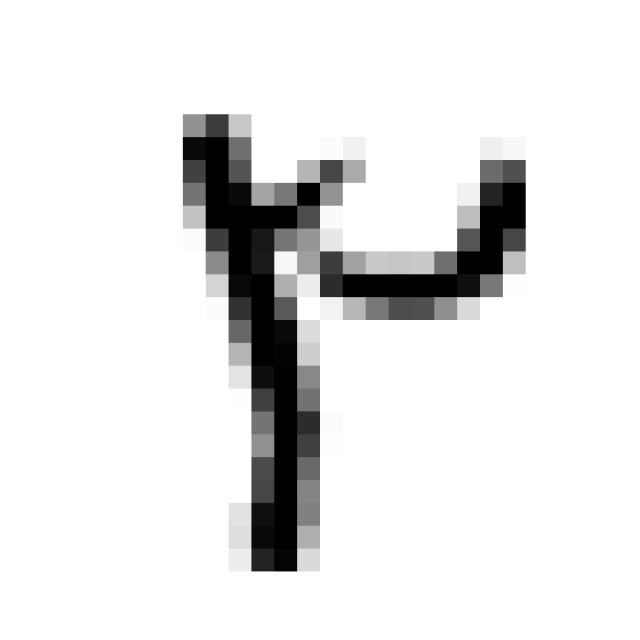3 -three-: (151, 82, 546, 592)
